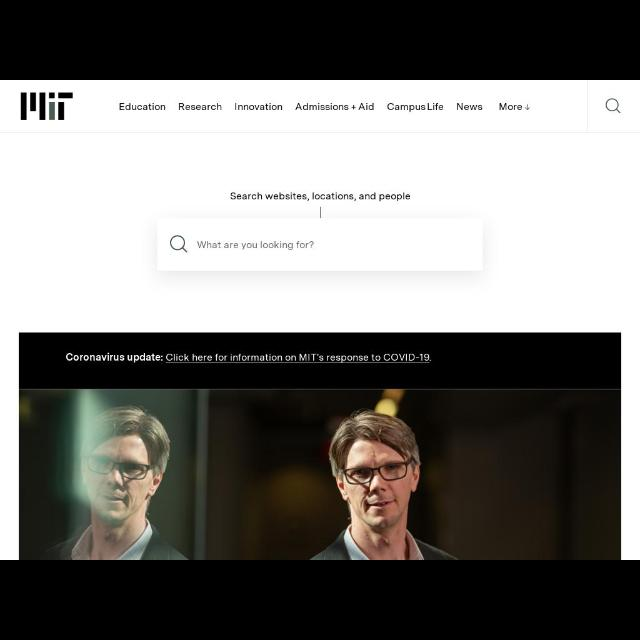button: (588, 80, 640, 132)
icon: (170, 235, 188, 253), (606, 98, 620, 114), (524, 104, 530, 110)
image: (19, 389, 621, 559), (20, 92, 74, 120)
input: (157, 218, 483, 272)
panel: (19, 332, 620, 388)
text: (66, 352, 432, 363), (231, 192, 411, 202), (198, 240, 314, 250), (387, 103, 443, 113), (296, 104, 374, 110), (235, 103, 282, 111), (120, 103, 166, 111), (178, 103, 222, 111), (458, 104, 482, 110), (500, 104, 522, 110)
toolbar: (1, 81, 640, 131)
